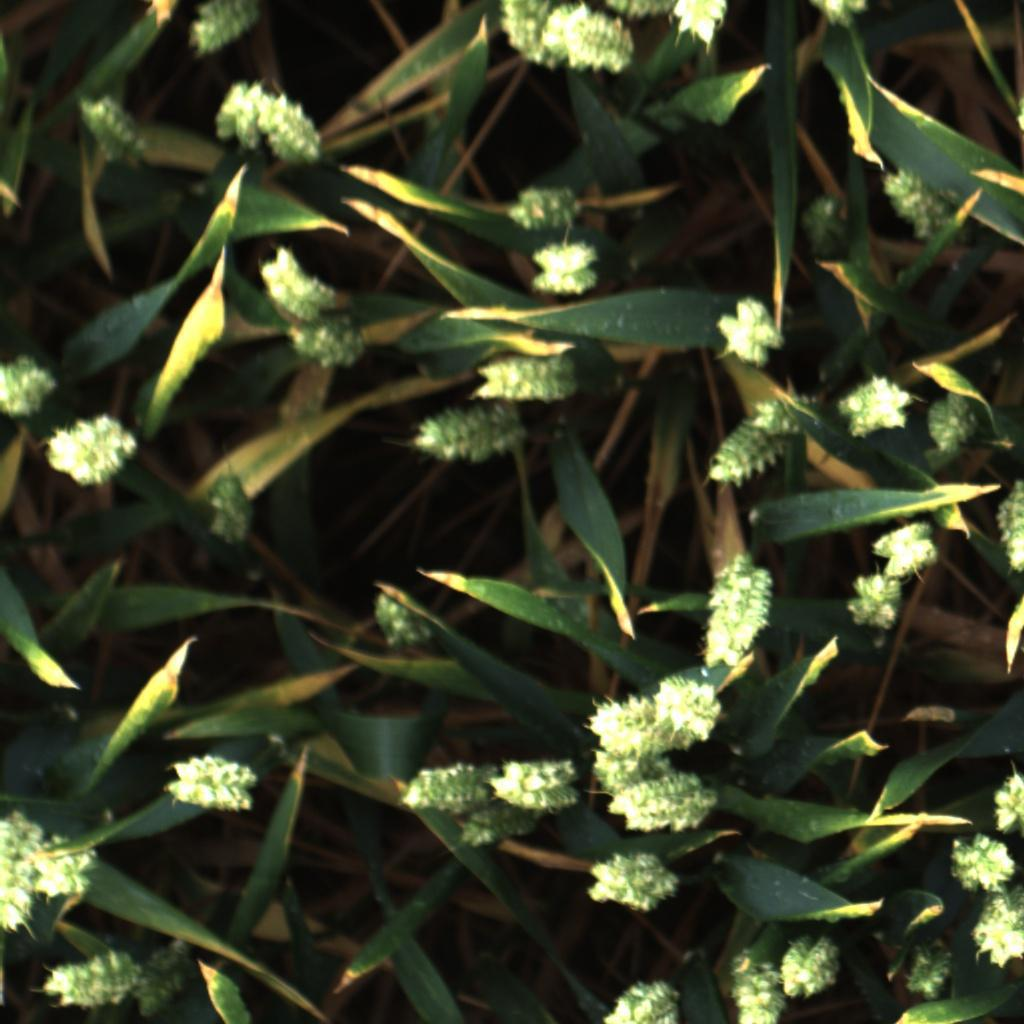0-0: (695, 554, 777, 671), (579, 697, 714, 758), (606, 772, 714, 846), (537, 0, 639, 76), (43, 410, 139, 490), (402, 409, 530, 467), (585, 736, 669, 815), (1, 810, 52, 936), (253, 246, 342, 318), (36, 946, 135, 1010), (161, 751, 259, 815), (472, 348, 579, 406), (584, 852, 682, 914), (485, 753, 577, 817), (75, 89, 149, 168), (259, 83, 324, 170), (872, 168, 949, 240), (717, 294, 788, 371), (835, 374, 912, 441), (945, 829, 1020, 897), (286, 312, 370, 372), (866, 519, 947, 580), (522, 245, 607, 303), (182, 0, 261, 61), (34, 829, 98, 904), (772, 933, 842, 1001), (200, 466, 260, 545), (395, 760, 483, 813), (967, 891, 1024, 972), (653, 672, 726, 734), (363, 590, 432, 655), (600, 972, 686, 1024), (128, 945, 187, 1019), (507, 181, 586, 236), (723, 944, 777, 1024), (702, 430, 776, 488), (494, 0, 558, 67), (795, 194, 855, 264), (208, 76, 263, 152), (844, 573, 907, 632), (3, 353, 60, 418), (900, 939, 960, 1000), (923, 392, 978, 458), (453, 808, 533, 848), (995, 477, 1024, 578), (672, 0, 731, 49), (987, 773, 1024, 841), (802, 0, 872, 33), (745, 395, 799, 436)
